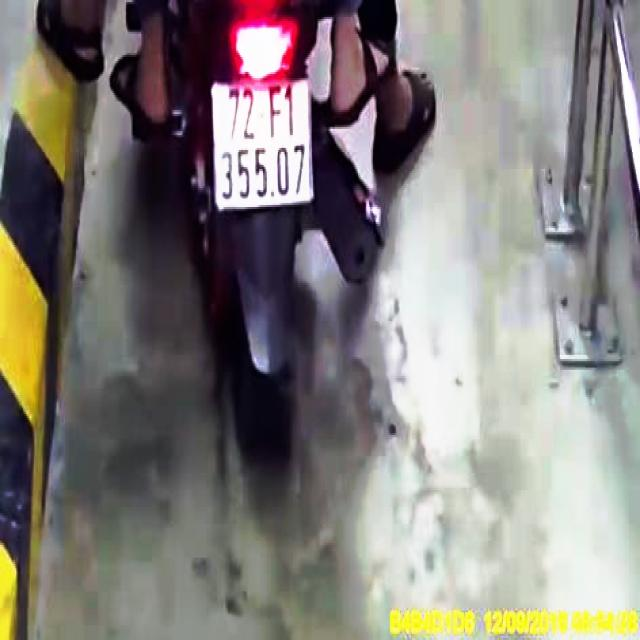license_plate: (214, 80, 312, 207)
